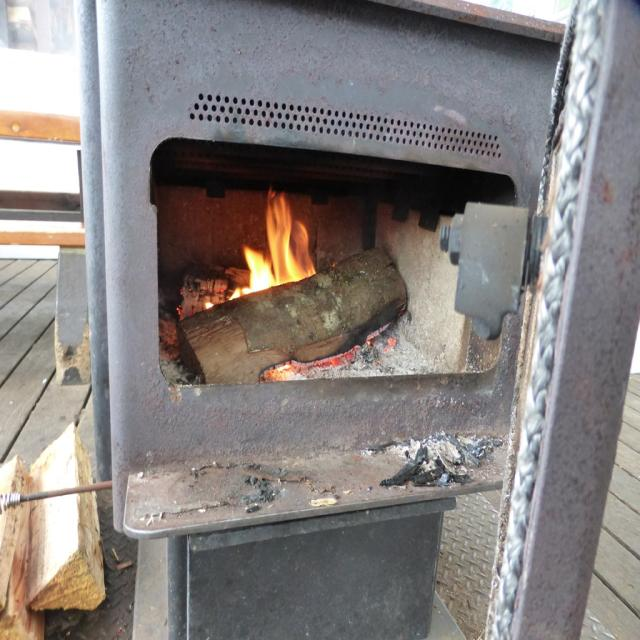fire: (237, 189, 317, 291)
